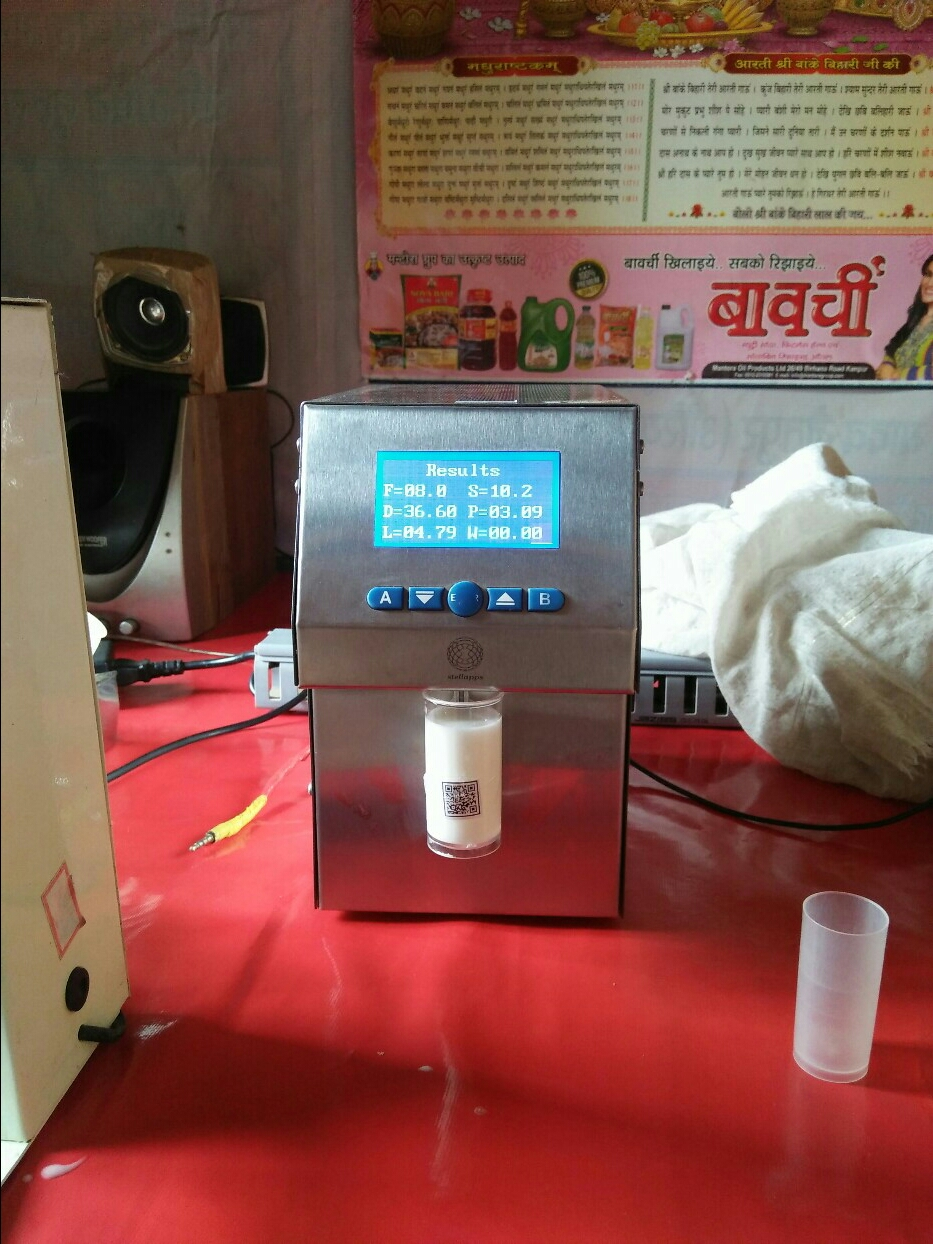lcd: (365, 444, 571, 559)
qr: (435, 771, 491, 827)
